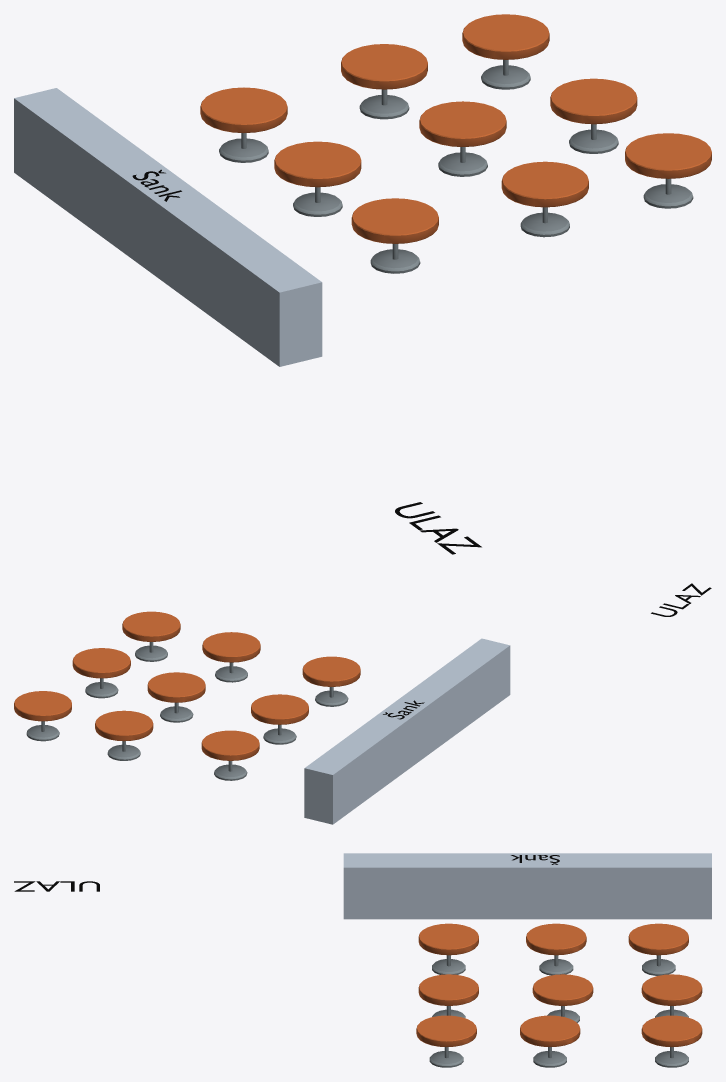
3 views of the same model, one above another, from view 1: azimuth 30°, elevation 25°; view 2: azimuth 150°, elevation 25°; view 3: azimuth 270°, elevation 25° (orthographic). The views are drawn at different scales.
Parts seen in each view (by area): view 1: Shank, table.007, table.004, table.006, table.009, table.005, table.003, table.002, table.001, table.008; view 2: Shank, table.005, table.003, table.002, table.004, table.009, table.001, table.008, table.006, table.007; view 3: Shank, table.009, table.007, table.001, table.008, table.002, table.004, table.005, table.003, table.006, Text.002.
Boxes of the visible parts, <box> form: Shank: <box>14,88,322,366</box>; table.007: <box>462,14,549,89</box>; table.004: <box>351,198,438,273</box>; table.006: <box>341,44,427,119</box>; table.009: <box>625,133,711,208</box>; table.005: <box>419,101,506,176</box>; table.003: <box>501,161,588,237</box>; table.002: <box>274,141,361,216</box>; table.001: <box>200,87,287,162</box>; table.008: <box>550,78,637,153</box>; Shank: <box>304,638,510,824</box>; table.005: <box>147,672,205,722</box>; table.003: <box>202,632,260,682</box>; table.002: <box>251,694,308,744</box>; table.004: <box>302,656,360,706</box>; table.009: <box>122,611,180,661</box>; table.001: <box>201,730,259,780</box>; table.008: <box>72,648,130,698</box>; table.006: <box>95,710,153,760</box>; table.007: <box>14,691,71,741</box>; Shank: <box>343,853,711,919</box>; table.009: <box>416,1015,476,1067</box>; table.007: <box>641,1015,702,1067</box>; table.001: <box>628,923,688,975</box>; table.008: <box>520,1015,580,1067</box>; table.002: <box>526,923,586,975</box>; table.004: <box>418,923,478,974</box>; table.005: <box>532,974,593,1022</box>; table.003: <box>418,974,478,1018</box>; table.006: <box>641,974,702,1017</box>; Text.002: <box>14,881,99,891</box>.
Bounding box in the file's own units: 4.06 × 0.5155 × 6.25.
Materials: 12 (9 with a texture image).
